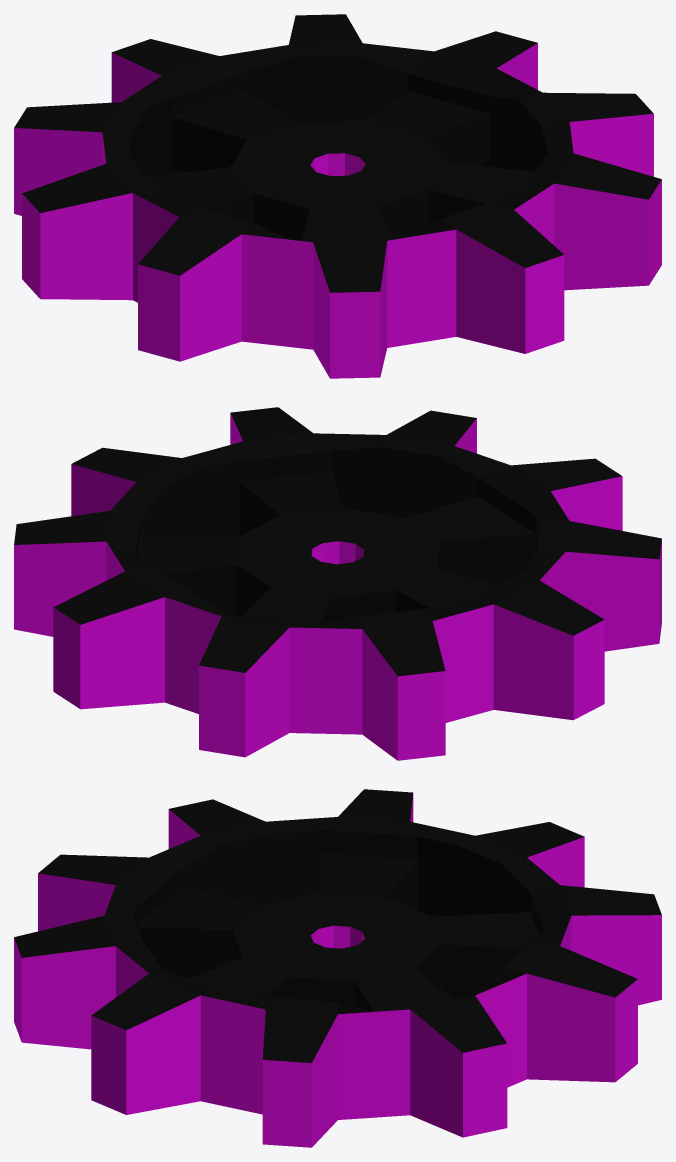
The model's file is D1GearV2.fbx.
3 renders of one model, top to bottom at view 1: azimuth 30°, elevation 25°; view 2: azimuth 150°, elevation 25°; view 3: azimuth 270°, elevation 25°, orthographic.
Parts seen in each view (by area): view 1: D1GearV2; view 2: D1GearV2; view 3: D1GearV2.
Boxes of the visible parts, x1,y1,x2,y2 form: D1GearV2: (14, 14, 661, 378); D1GearV2: (14, 407, 661, 760); D1GearV2: (14, 789, 661, 1147).
Size of the model in its own units: 2.77 by 0.5 by 2.77.
